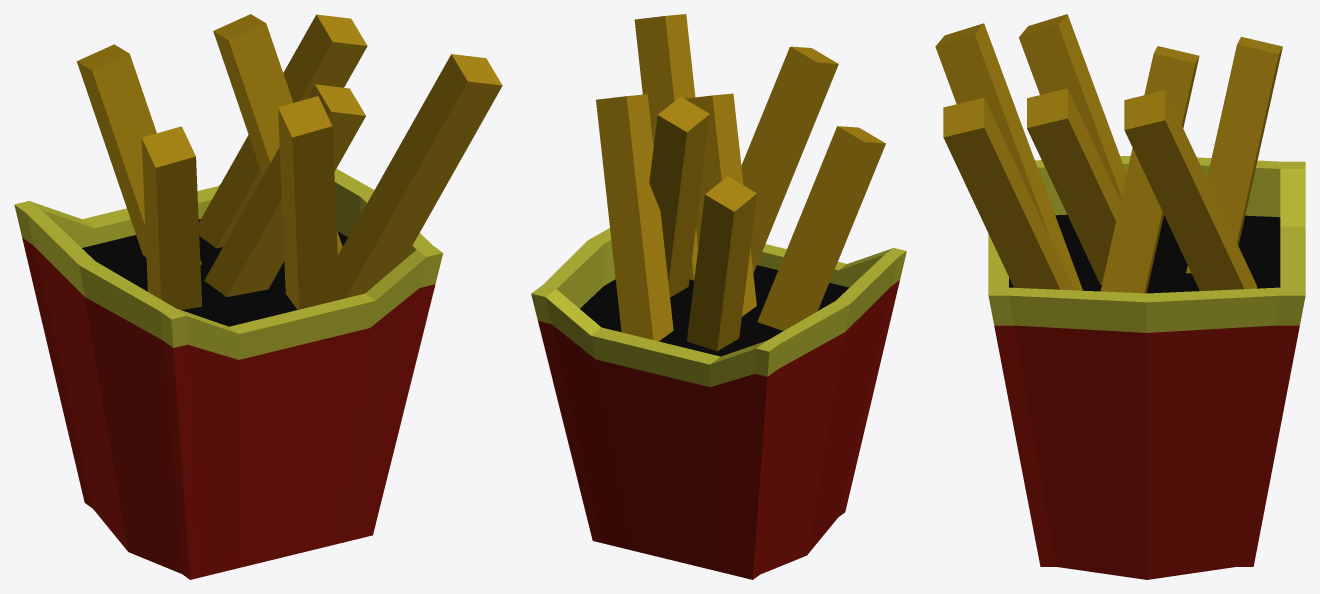
The model's file is papas.fbx.
3 views of the same model, side by side, from view 1: azimuth 30°, elevation 25°; view 2: azimuth 150°, elevation 25°; view 3: azimuth 270°, elevation 25° (orthographic). The views are drawn at different scales.
Visible parts, largest first — view 1: Cube.004; view 2: Cube.004; view 3: Cube.004.
Boxes of the visible parts, left/top/right/bottom form: Cube.004: left=14, top=14, right=502, bottom=579; Cube.004: left=531, top=14, right=906, bottom=579; Cube.004: left=935, top=14, right=1305, bottom=579.
Bounding box in the file's own units: 20.59 × 30 × 20.03.
